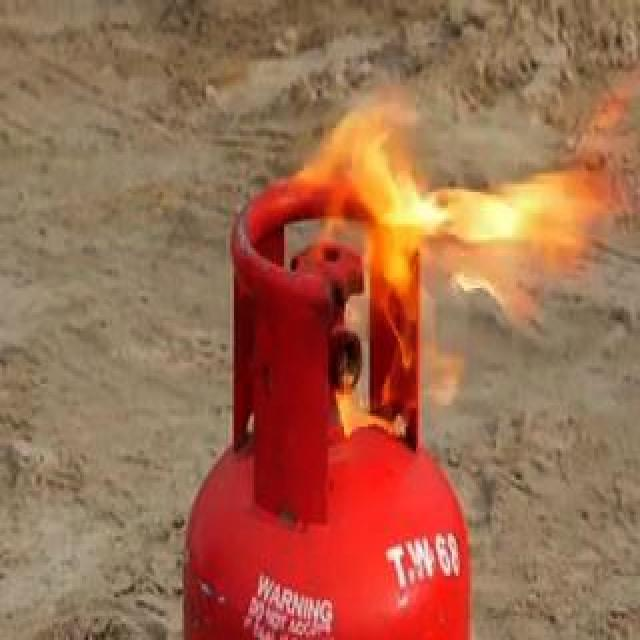fire: (316, 130, 587, 446)
